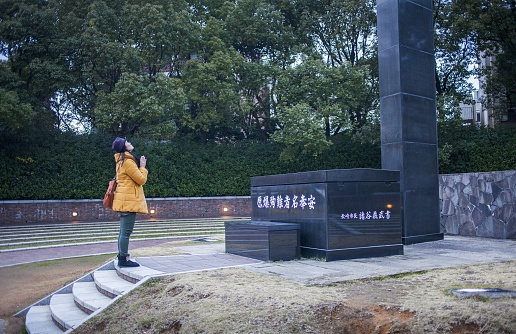em pe: (95, 127, 156, 277)
